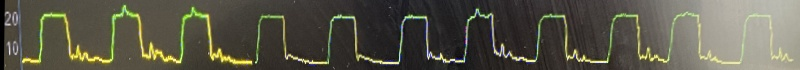hydrop_pressure: (427, 6, 800, 70), (16, 0, 254, 70)
normal_pressure: (255, 5, 425, 70)
